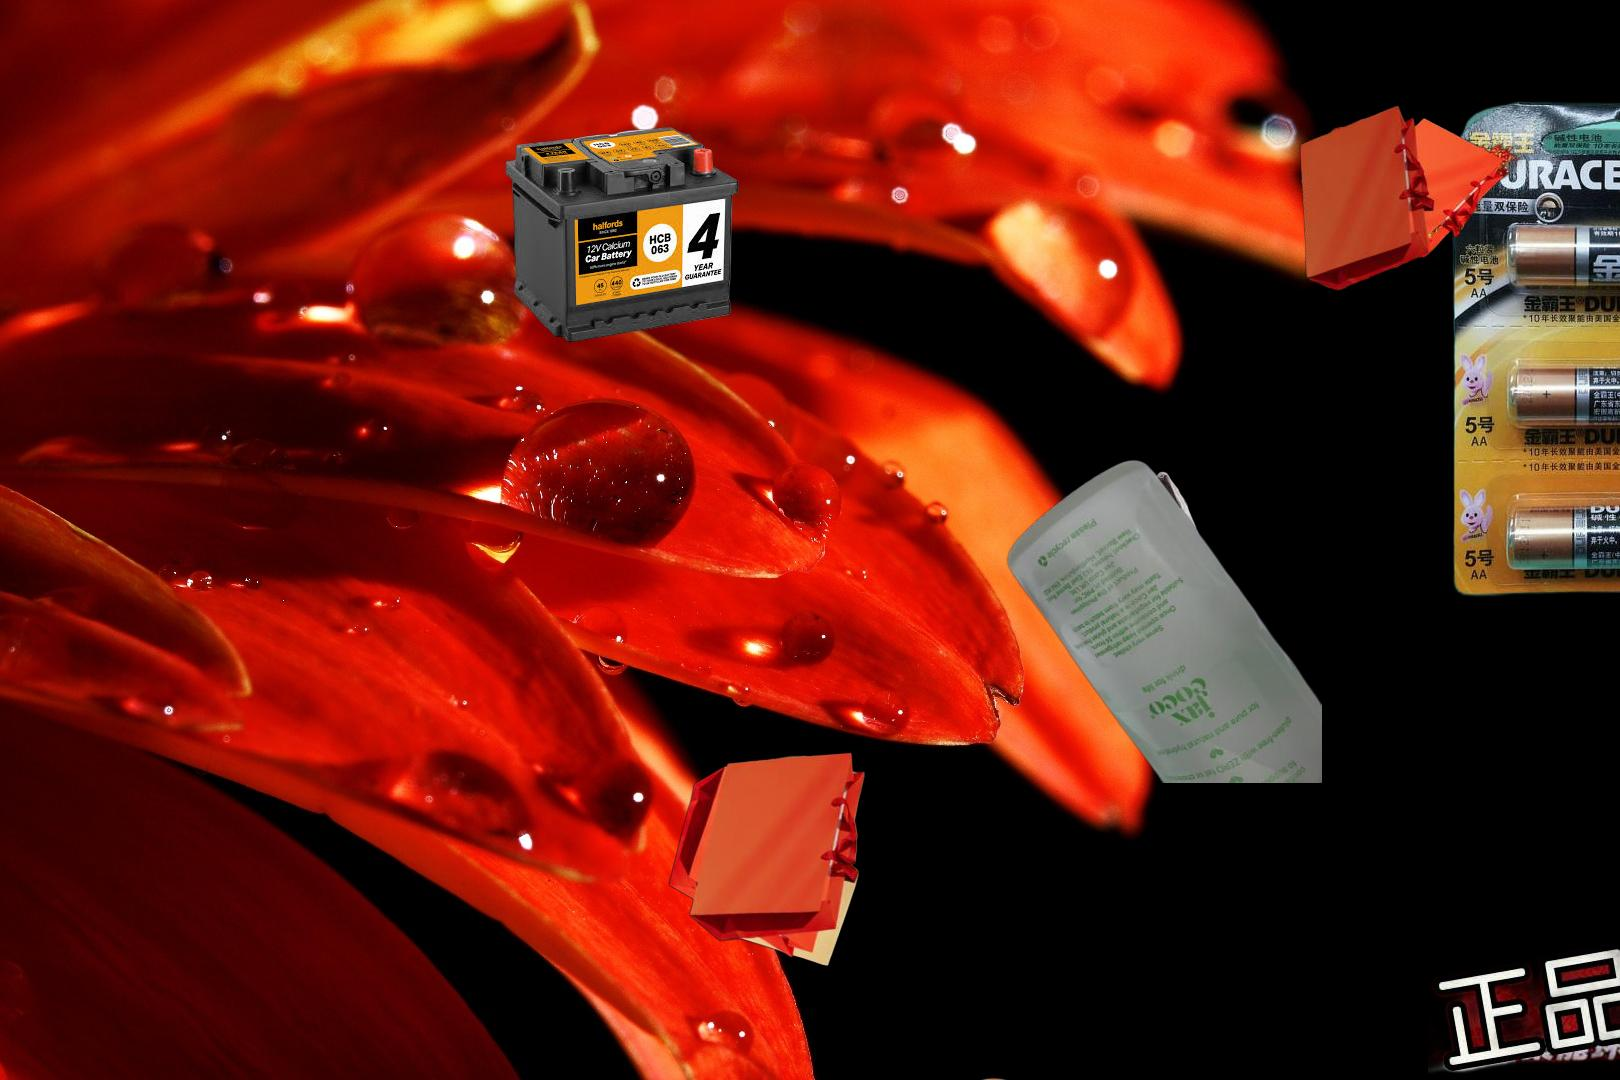battery: (1446, 99, 1620, 599), (505, 127, 739, 344), (1428, 943, 1620, 1080), (344, 1074, 1046, 1080)
glass: (1003, 459, 1322, 783)
paper-bag: (1297, 102, 1533, 293), (667, 747, 869, 969)
shoes: (1068, 469, 1216, 626)
